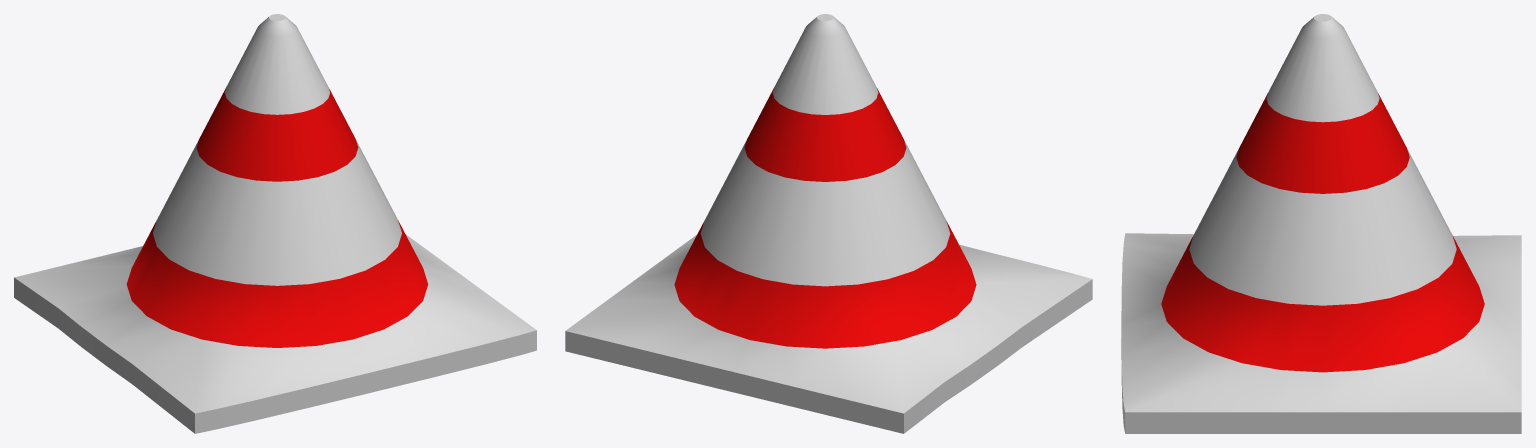
The model's file is TrafficCone.fbx.
3 views of the same model, side by side, from view 1: azimuth 30°, elevation 25°; view 2: azimuth 150°, elevation 25°; view 3: azimuth 270°, elevation 25° (orthographic). The views are drawn at different scales.
Parts seen in each view (by area): view 1: TrafficCone; view 2: TrafficCone; view 3: TrafficCone.
Boxes of the visible parts, left/top/right/bottom form: TrafficCone: left=14, top=14, right=536, bottom=433; TrafficCone: left=565, top=14, right=1092, bottom=433; TrafficCone: left=1121, top=14, right=1521, bottom=433.
Bounding box in the file's own units: 27.77 × 23.77 × 26.24.
